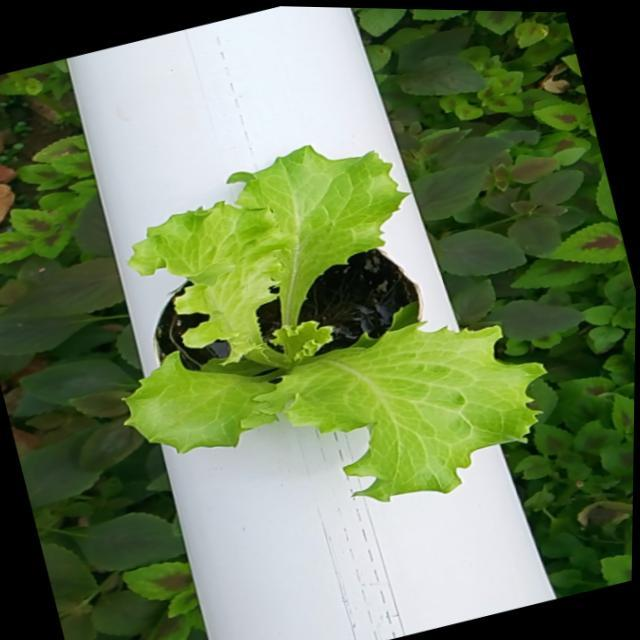Baby: (98, 150, 518, 508)
